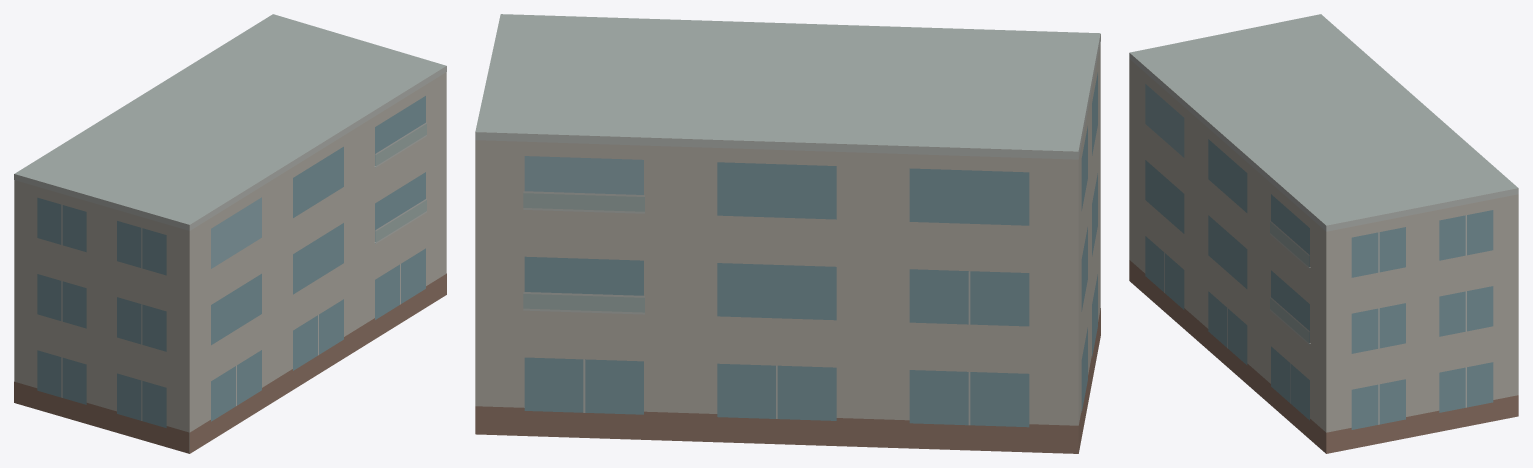
Rendered from survey-upis-32913974.glb.
3 views of the same model, side by side, from view 1: azimuth 30°, elevation 25°; view 2: azimuth 150°, elevation 25°; view 3: azimuth 270°, elevation 25° (orthographic). The views are drawn at different scales.
Visible parts, largest first — view 1: survey-upis-32913974.tmp; view 2: survey-upis-32913974.tmp; view 3: survey-upis-32913974.tmp.
Boxes of the visible parts, x1=… form: survey-upis-32913974.tmp: x1=14, y1=14, x2=446, y2=453; survey-upis-32913974.tmp: x1=475, y1=14, x2=1100, y2=453; survey-upis-32913974.tmp: x1=1129, y1=14, x2=1518, y2=453.
Size of the model in its own units: 18.21 by 9.15 by 14.15.
